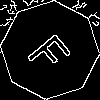F: (25, 25, 80, 78)
